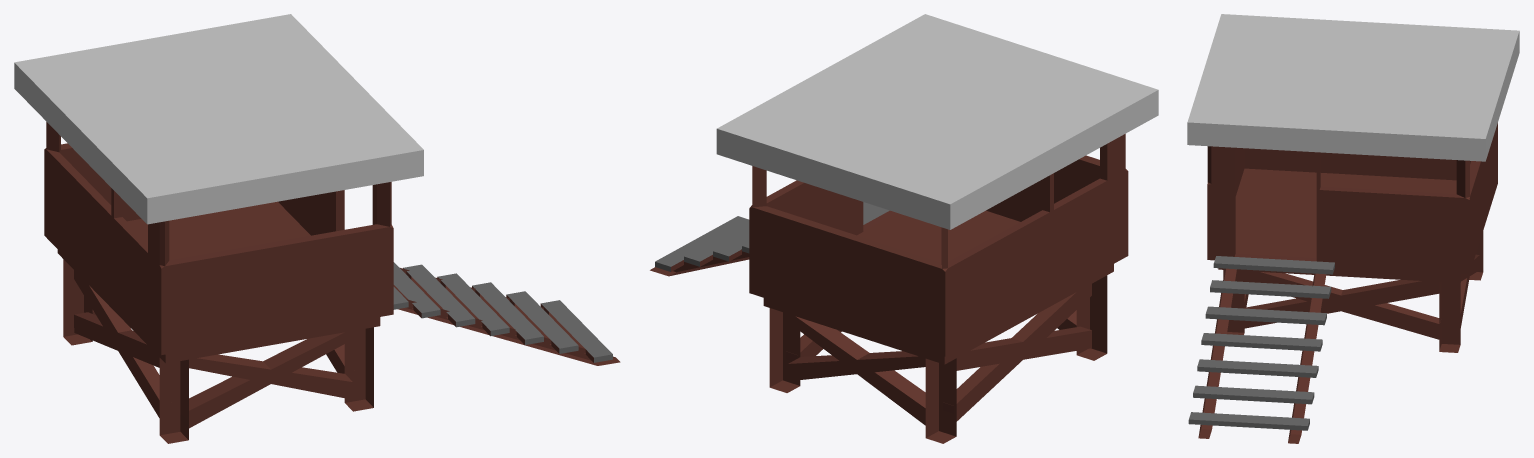
The model's file is watchtower.fbx.
The picture shows the model from 3 angles, left to right: view 1: azimuth 30°, elevation 25°; view 2: azimuth 150°, elevation 25°; view 3: azimuth 270°, elevation 25°; orthographic projection. The views are drawn at different scales.
Visible parts, largest first — view 1: Plane.001; view 2: Plane.001; view 3: Plane.001.
Part boxes in pixels (<box>): Plane.001: <box>14,14,620,443</box>; Plane.001: <box>650,14,1158,443</box>; Plane.001: <box>1187,14,1519,443</box>.
Bounding box in the file's own units: 603 × 324 × 424.
